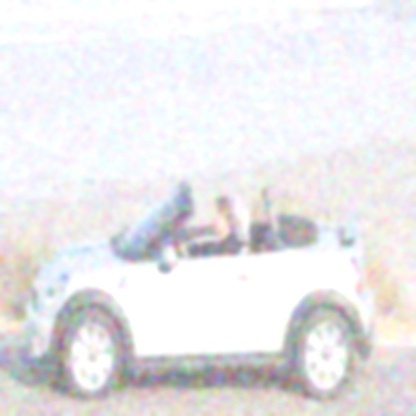Vehicle: (25, 184, 376, 402)
